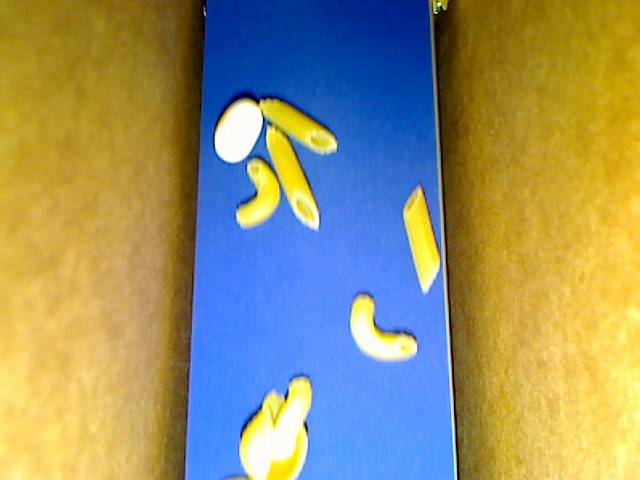elbow: (347, 292, 418, 364), (236, 157, 280, 230), (273, 374, 313, 443)
penne: (264, 125, 320, 231), (258, 96, 338, 155), (402, 182, 441, 296)
shell: (239, 389, 308, 479)
